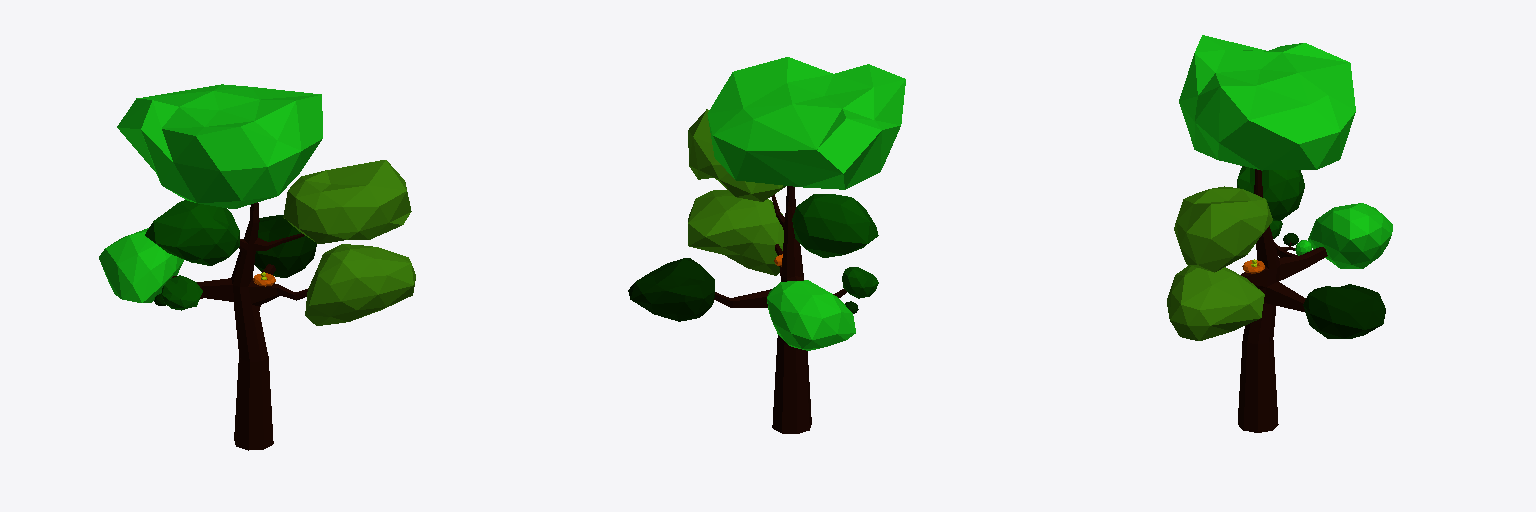
Rendered from tree2.obj.
The picture shows the model from 3 angles: view 1: azimuth 30°, elevation 25°; view 2: azimuth 150°, elevation 25°; view 3: azimuth 270°, elevation 25°; orthographic projection.
Visible parts, largest first — view 1: Cilindro.140_Cilindro.000; view 2: Cilindro.140_Cilindro.000; view 3: Cilindro.140_Cilindro.000.
Part boxes in pixels (left/top/right/bottom): Cilindro.140_Cilindro.000: left=99, top=84, right=415, bottom=450; Cilindro.140_Cilindro.000: left=628, top=57, right=905, bottom=433; Cilindro.140_Cilindro.000: left=1167, top=35, right=1392, bottom=432.
Bounding box in the file's own units: 3.98 × 5.81 × 3.41.